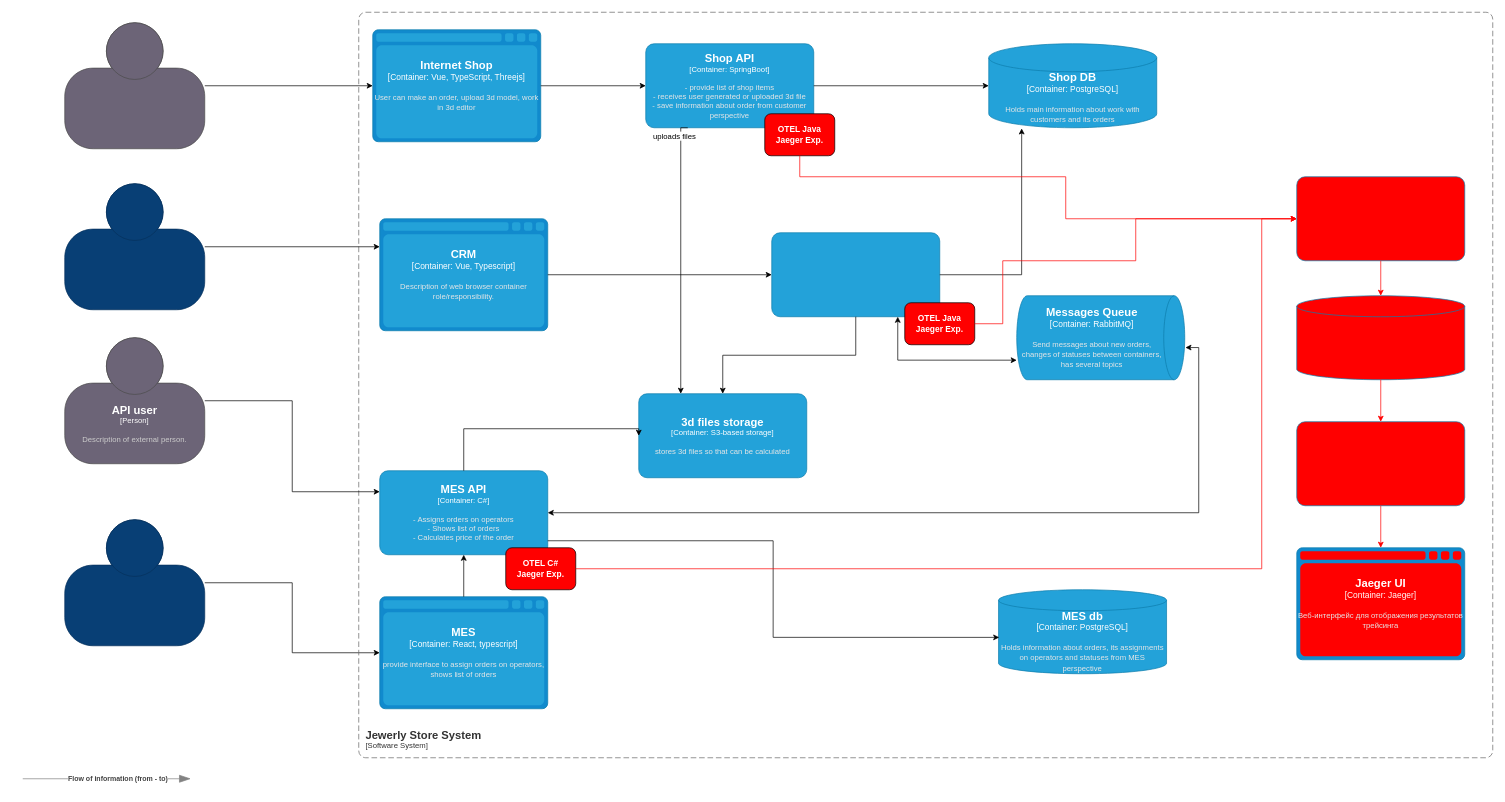
This 1505x802 diagram has some shape labels left out. The shapes that lost their labels are listed below. From the top down, each one's centre as x and y in pixels, then its label:
At (134,85): "Customer [Person] Description of external person.".
At (1380,218): "Jaeger Collector [Container: Jaeger] Сборщик событий трейсинга".
At (134,246): "Seller [Person] Operates with order, confirms manufacturing for the user".
At (855,274): "CRM API [Container: SpringBoot] Description of container role/responsibility.".
At (1380,337): "OpenSearch for Jaeger [Container: OpenSearch] БД для трейсинга".
At (1380,463): "Jaeger Query [Container: Jaeger] API для Jaeger трейсинга".
At (134,582): "Operator [Person] Takes order in work, manufactures jewerly".
